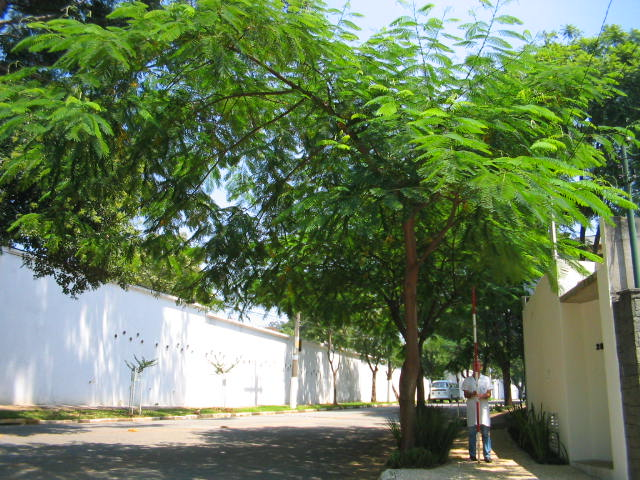crown: (5, 3, 637, 296)
stem: (392, 268, 431, 461)
stick: (465, 285, 484, 463)
tree: (5, 2, 639, 462)
